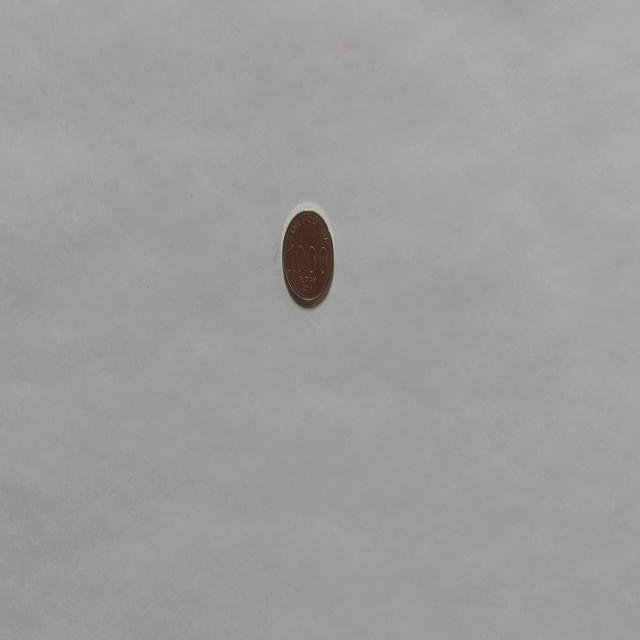seribu rupiah koin: (280, 204, 334, 308)
